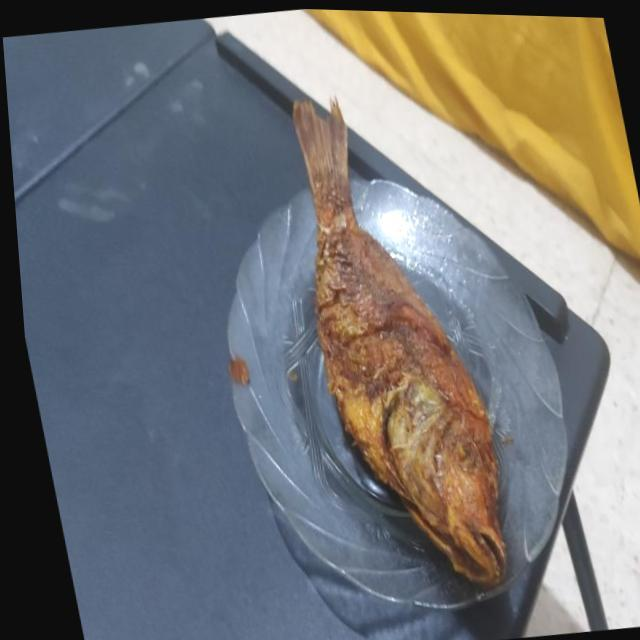ikan_mujair: (292, 101, 506, 584)
